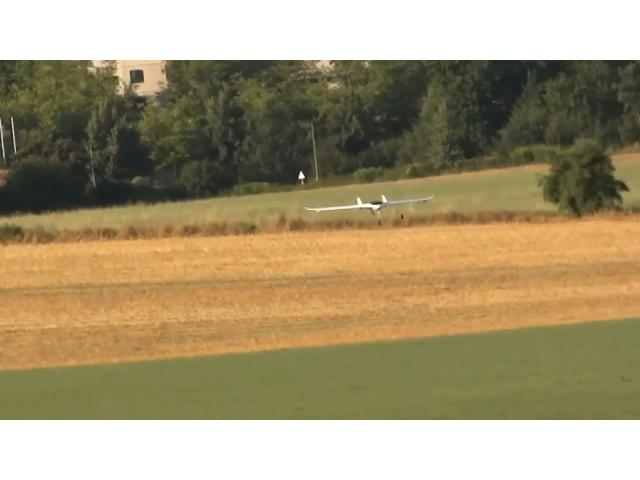Anti-Drone: (302, 194, 434, 214)
